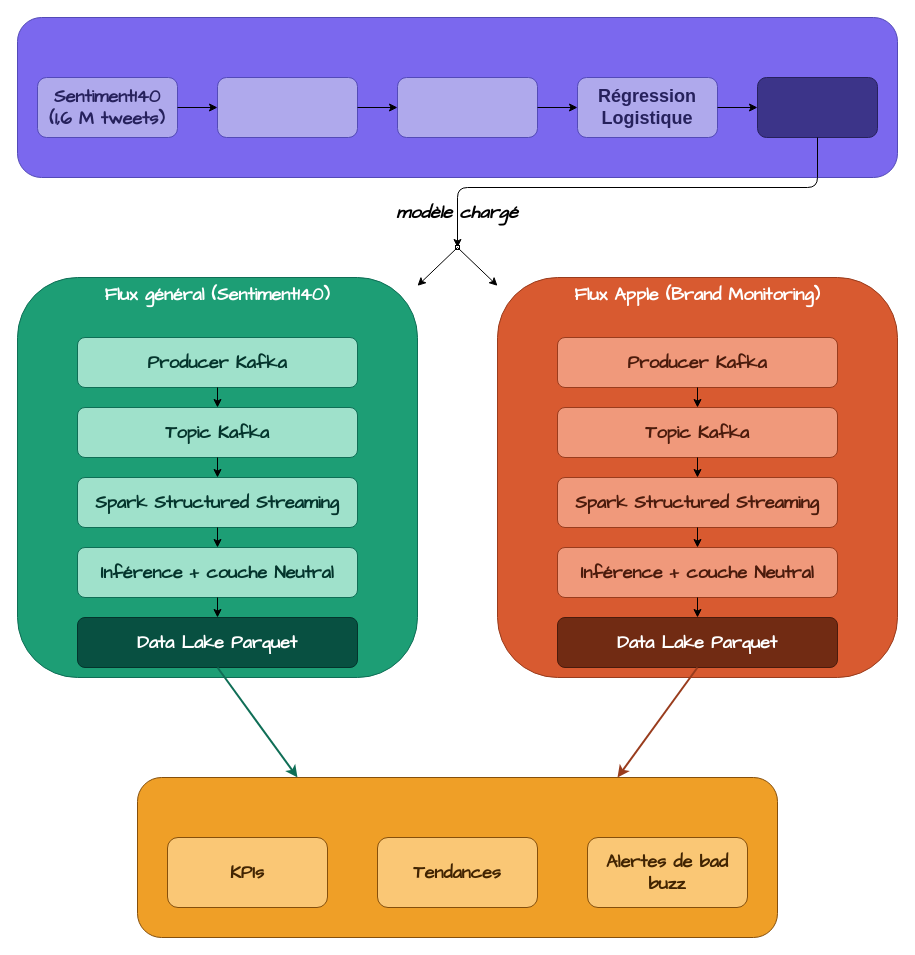
This 915x955 diagram has some shape labels left out. Here are the shapes that lost their labels. From the top down, the box of each, then its label:
(216, 76, 358, 138): Nettoyage NLP
(16, 16, 898, 178): Entraînement (hors-ligne)
(396, 76, 538, 138): TF-IDF
(756, 76, 878, 138): Modèle sauvegardé (Parquet)
(136, 776, 778, 938): Dashboard Streamlit
